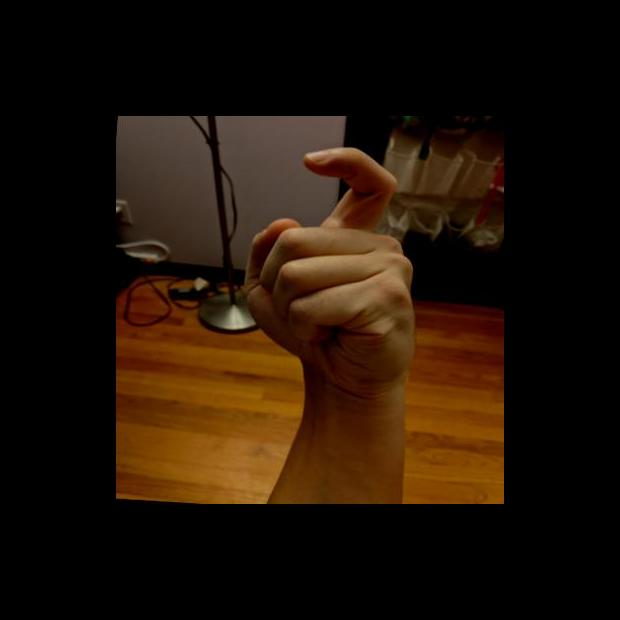W: (232, 137, 435, 392)
